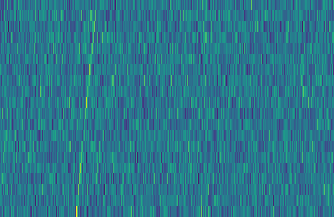signal: (70, 0, 100, 217)
